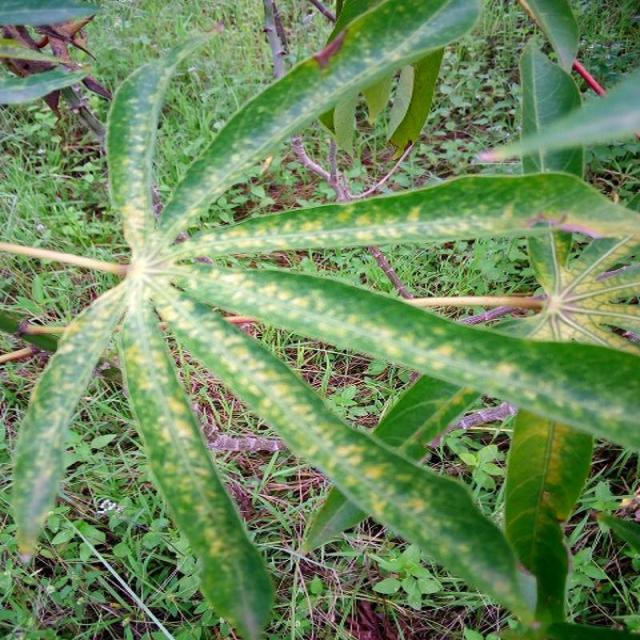cassava leaf: (7, 1, 638, 636)
